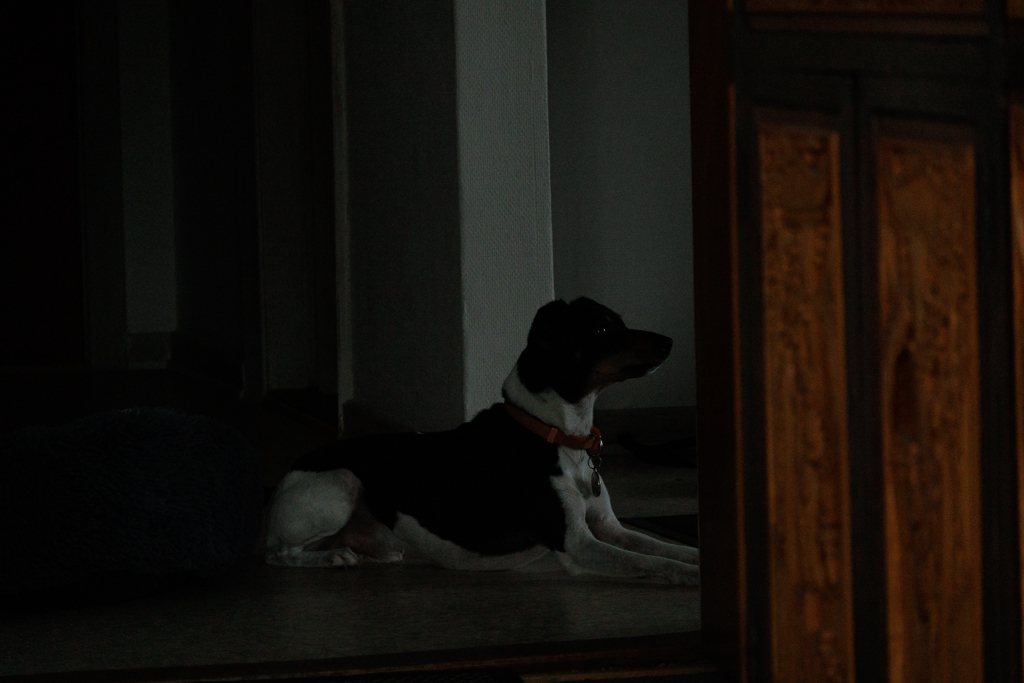Dog: (198, 283, 711, 585)
